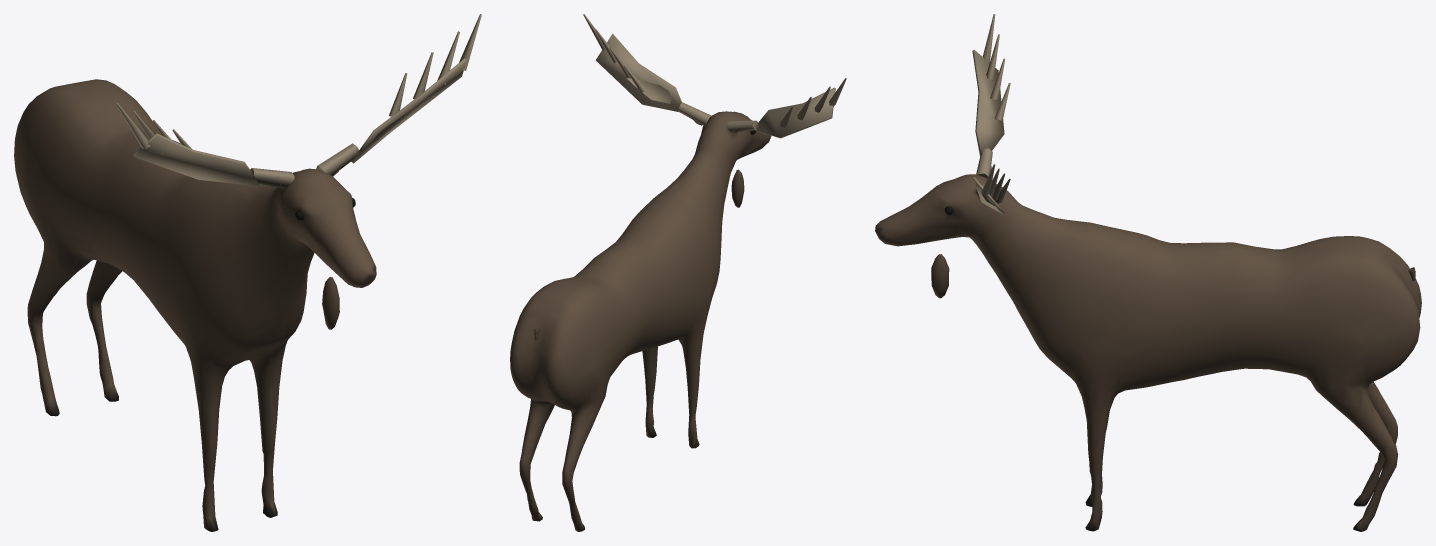
Rendered from elch.glb.
3 views of the same model, side by side, from view 1: azimuth 30°, elevation 25°; view 2: azimuth 150°, elevation 25°; view 3: azimuth 270°, elevation 25° (orthographic). The views are drawn at different scales.
Visible parts, largest first — view 1: lack; view 2: lack; view 3: lack.
Boxes of the visible parts, left/top/right/bottom form: lack: left=14, top=14, right=481, bottom=531; lack: left=510, top=14, right=846, bottom=531; lack: left=875, top=14, right=1421, bottom=531.
Size of the model in its own units: 2.37 by 3.15 by 3.63.
